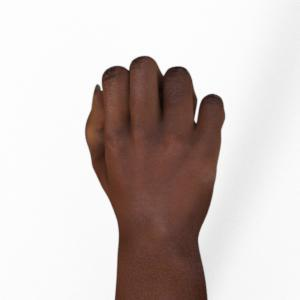rock: (86, 57, 224, 300)
